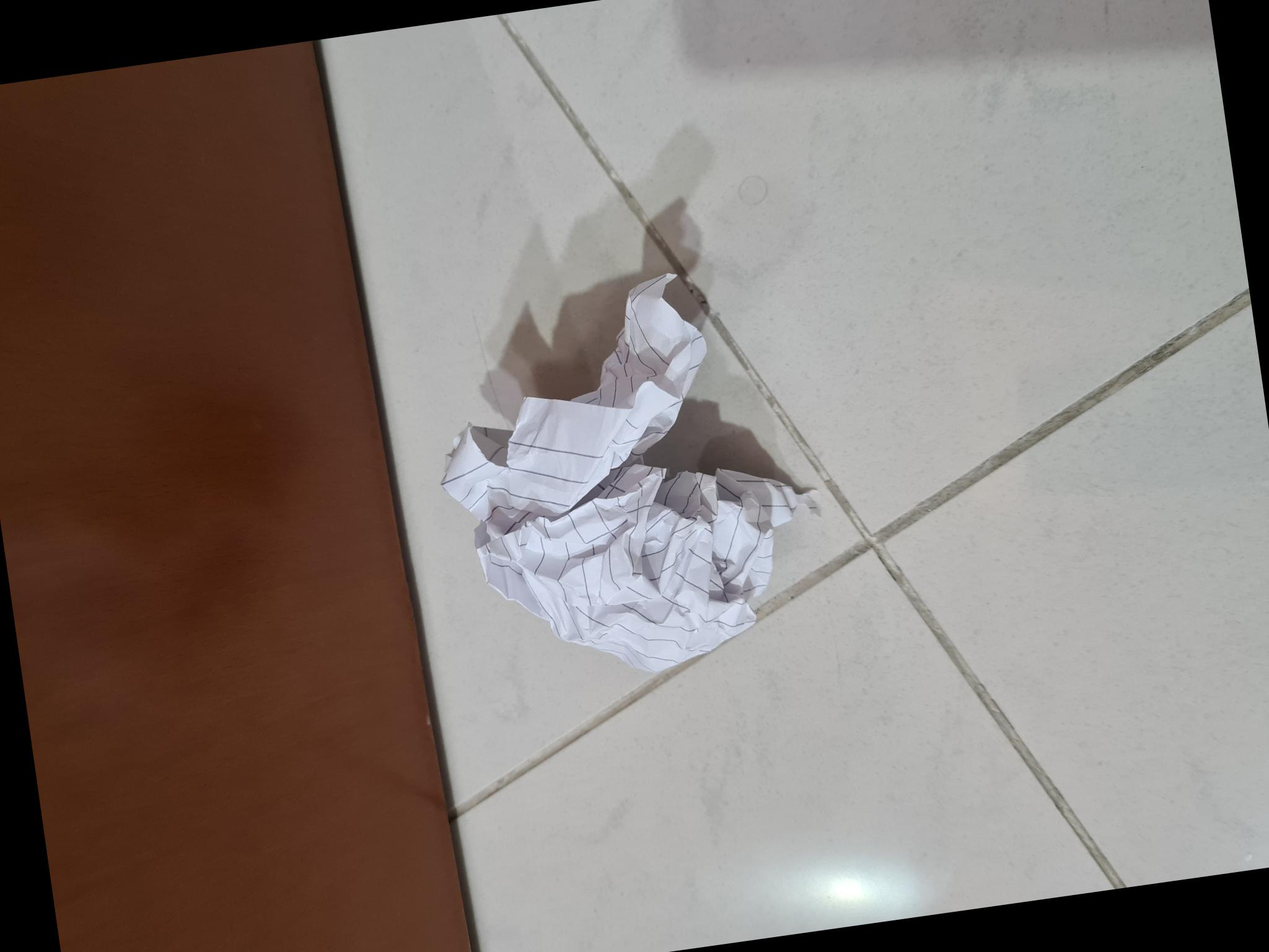Kertas: (304, 457, 753, 828)
